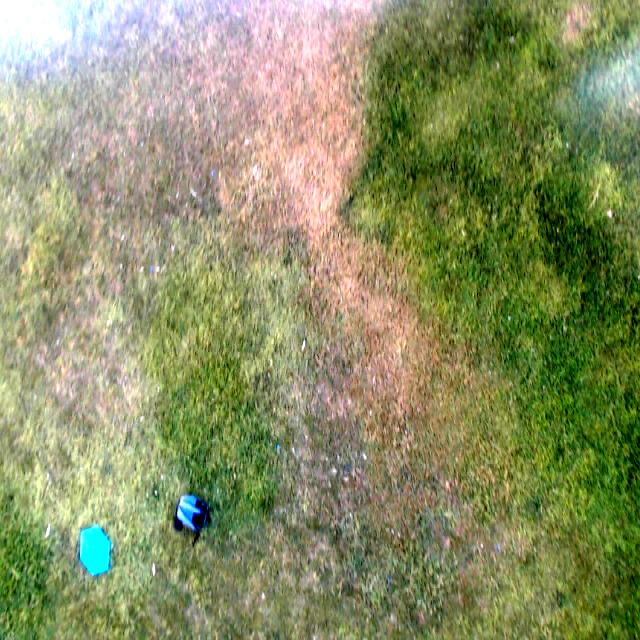blue_hexagon: (78, 524, 112, 576)
